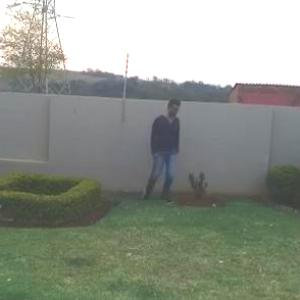follow: (147, 96, 181, 206)
